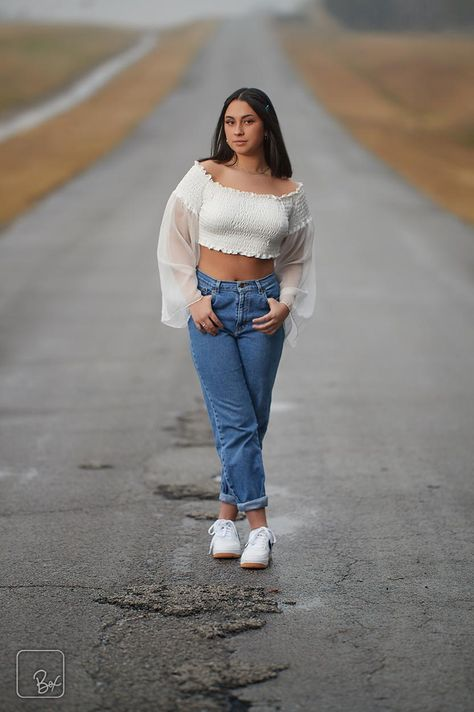person: (153, 83, 321, 578)
